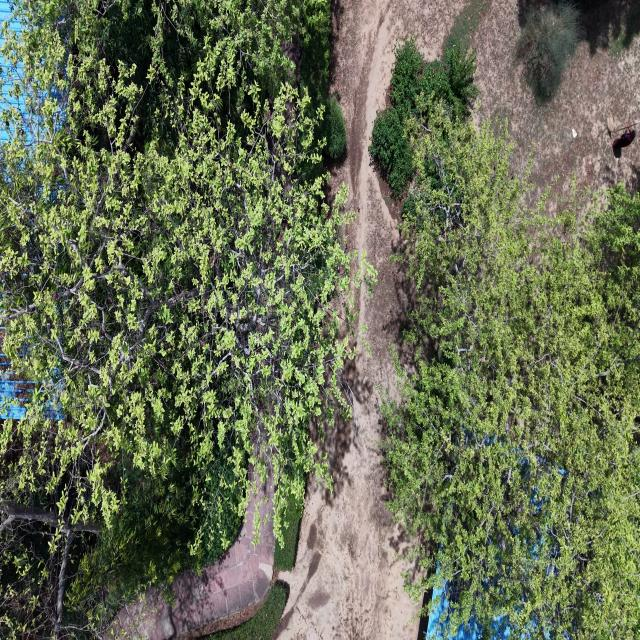DRY_AREA: (276, 0, 461, 639), (275, 0, 460, 639), (277, 0, 462, 639), (472, 0, 639, 192), (114, 498, 274, 639), (148, 505, 274, 639), (161, 501, 274, 639), (180, 586, 269, 639)
PATHWAYS: (115, 499, 274, 639)
VEGETATION_TREE: (0, 0, 351, 636), (0, 0, 350, 637), (0, 2, 347, 473), (370, 46, 639, 639), (385, 100, 639, 639), (369, 40, 477, 199), (0, 496, 113, 637), (368, 41, 425, 199), (292, 0, 345, 155), (293, 1, 345, 157), (516, 0, 580, 104), (206, 580, 286, 639), (291, 0, 330, 104), (577, 0, 639, 56), (445, 0, 489, 49), (273, 496, 301, 570), (608, 8, 639, 55), (324, 95, 345, 156)
